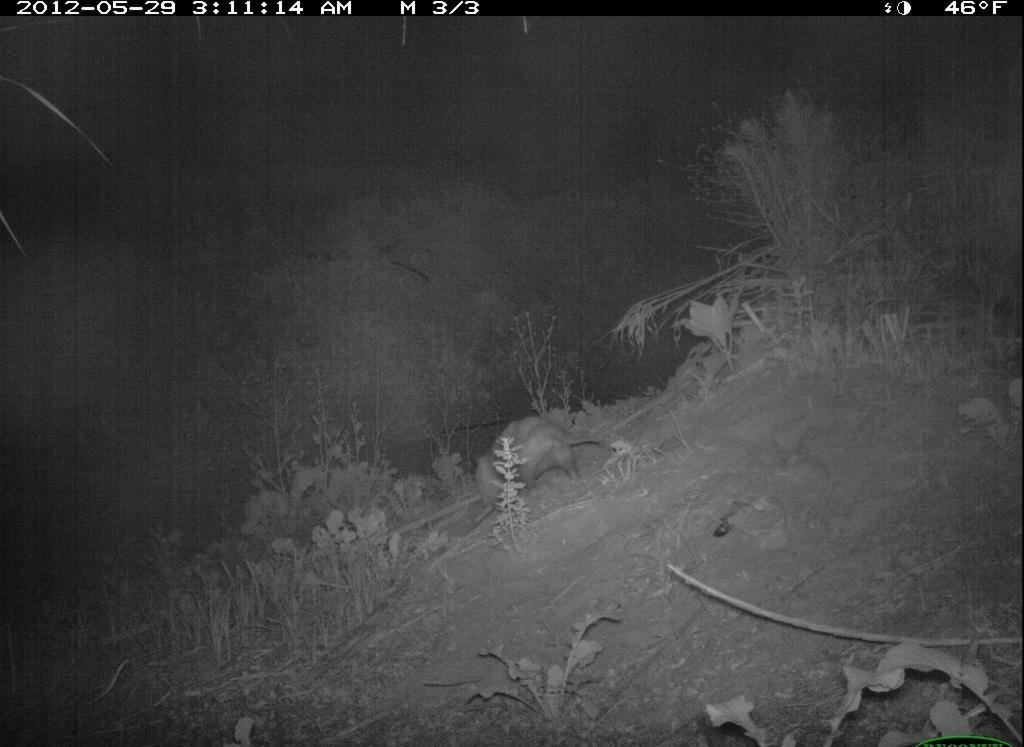opossum: (460, 408, 619, 524)
